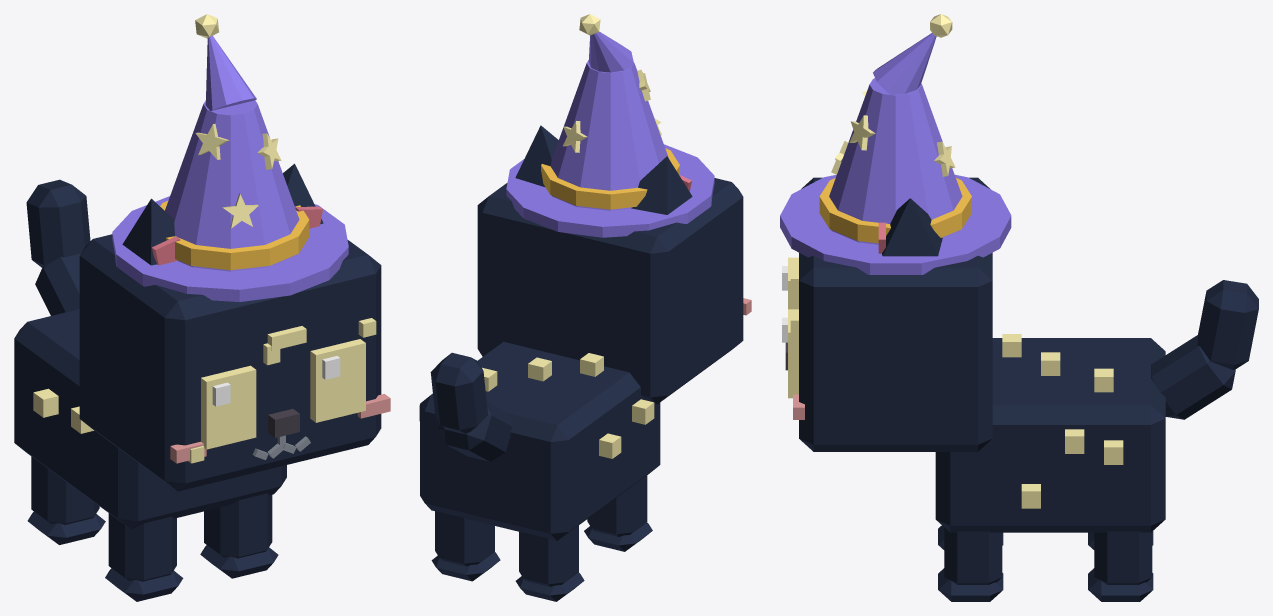
File: CatCafe_Cat_Midnight.glb
3 renders of one model, left to right at view 1: azimuth 30°, elevation 25°; view 2: azimuth 150°, elevation 25°; view 3: azimuth 270°, elevation 25°, orthographic. The views are drawn at different scales.
Visible parts, largest first — view 1: CatCafe_Cat_Midnight_Head, CatCafe_Cat_Midnight_Prop, CatCafe_Cat_Midnight_Body, CatCafe_Cat_Midnight_Tail, CatCafe_Cat_Midnight_LegF2, CatCafe_Cat_Midnight_LegF1, CatCafe_Cat_Midnight_Eye1, CatCafe_Cat_Midnight_Eye2, CatCafe_Cat_Midnight_LegB2, CatCafe_Cat_Midnight_EarR, CatCafe_Cat_Midnight_EarL; view 2: CatCafe_Cat_Midnight_Head, CatCafe_Cat_Midnight_Body, CatCafe_Cat_Midnight_Prop, CatCafe_Cat_Midnight_Tail, CatCafe_Cat_Midnight_LegB2, CatCafe_Cat_Midnight_LegB1, CatCafe_Cat_Midnight_LegF2, CatCafe_Cat_Midnight_EarR, CatCafe_Cat_Midnight_EarL; view 3: CatCafe_Cat_Midnight_Body, CatCafe_Cat_Midnight_Head, CatCafe_Cat_Midnight_Prop, CatCafe_Cat_Midnight_Tail, CatCafe_Cat_Midnight_LegF1, CatCafe_Cat_Midnight_LegB1, CatCafe_Cat_Midnight_EarL, CatCafe_Cat_Midnight_Eye1.
Part boxes in pixels (left/top/right/bottom): CatCafe_Cat_Midnight_Head: left=79, top=234, right=390, bottom=491; CatCafe_Cat_Midnight_Prop: left=112, top=14, right=348, bottom=301; CatCafe_Cat_Midnight_Body: left=14, top=309, right=286, bottom=528; CatCafe_Cat_Midnight_Tail: left=26, top=179, right=90, bottom=315; CatCafe_Cat_Midnight_LegF2: left=105, top=513, right=183, bottom=601; CatCafe_Cat_Midnight_LegF1: left=200, top=493, right=278, bottom=578; CatCafe_Cat_Midnight_Eye1: left=310, top=339, right=365, bottom=422; CatCafe_Cat_Midnight_Eye2: left=201, top=365, right=256, bottom=449; CatCafe_Cat_Midnight_LegB2: left=27, top=456, right=105, bottom=544; CatCafe_Cat_Midnight_EarR: left=122, top=198, right=180, bottom=265; CatCafe_Cat_Midnight_EarL: left=283, top=163, right=323, bottom=228; CatCafe_Cat_Midnight_Head: left=477, top=178, right=751, bottom=404; CatCafe_Cat_Midnight_Body: left=419, top=341, right=660, bottom=540; CatCafe_Cat_Midnight_Prop: left=506, top=14, right=714, bottom=237; CatCafe_Cat_Midnight_Tail: left=430, top=352, right=512, bottom=461; CatCafe_Cat_Midnight_LegB2: left=515, top=525, right=584, bottom=601; CatCafe_Cat_Midnight_LegB1: left=431, top=511, right=500, bottom=581; CatCafe_Cat_Midnight_LegF2: left=584, top=475, right=652, bottom=551; CatCafe_Cat_Midnight_EarR: left=631, top=156, right=692, bottom=214; CatCafe_Cat_Midnight_EarL: left=515, top=125, right=558, bottom=186; CatCafe_Cat_Midnight_Body: left=935, top=334, right=1165, bottom=532; CatCafe_Cat_Midnight_Head: left=785, top=177, right=992, bottom=451; CatCafe_Cat_Midnight_Prop: left=780, top=14, right=1011, bottom=274; CatCafe_Cat_Midnight_Tail: left=1151, top=280, right=1258, bottom=419; CatCafe_Cat_Midnight_LegF1: left=938, top=527, right=1003, bottom=601; CatCafe_Cat_Midnight_LegB1: left=1088, top=531, right=1153, bottom=601; CatCafe_Cat_Midnight_EarL: left=878, top=198, right=942, bottom=256; CatCafe_Cat_Midnight_Eye1: left=782, top=309, right=798, bottom=398.
Size of the model in its own units: 1 by 2.54 by 1.98.
1 material, 1 textured.
